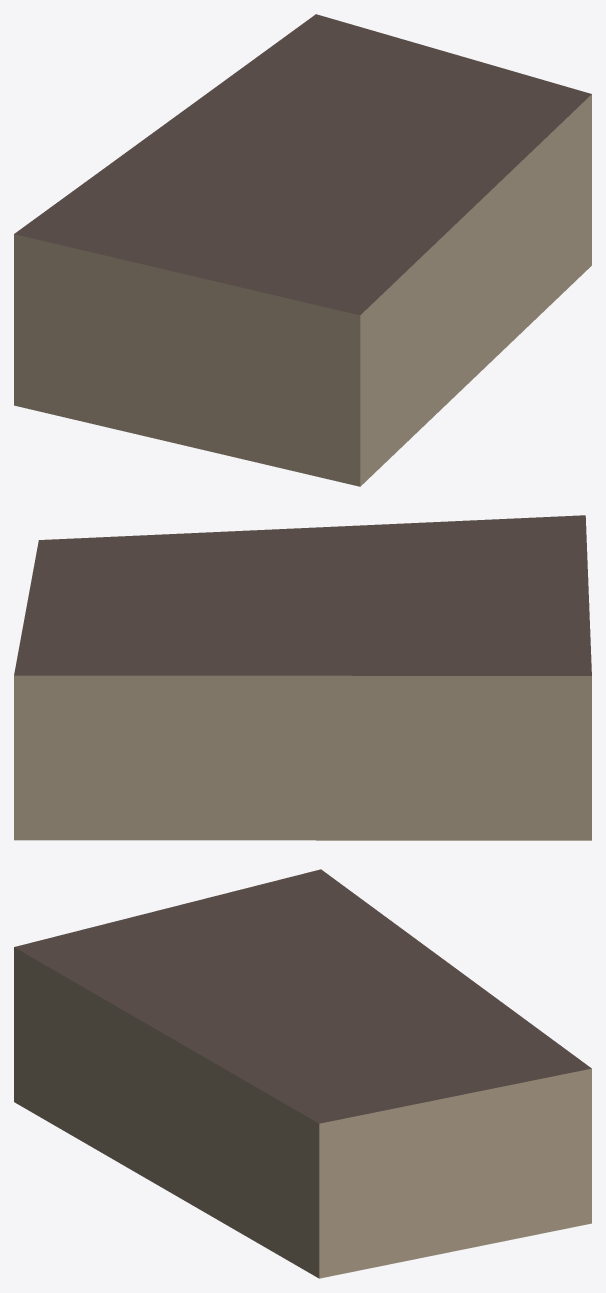
3 renders of one model, top to bottom at view 1: azimuth 30°, elevation 25°; view 2: azimuth 150°, elevation 25°; view 3: azimuth 270°, elevation 25°, orthographic. The views are drawn at different scales.
Parts seen in each view (by area): view 1: HP-w1512359799; view 2: HP-w1512359799; view 3: HP-w1512359799.
Part boxes in pixels (x1,y1,x2,y2): HP-w1512359799: [14, 14, 591, 486]; HP-w1512359799: [14, 515, 591, 840]; HP-w1512359799: [14, 869, 591, 1278].
Size of the model in its own units: 31.69 by 9 by 30.42.
